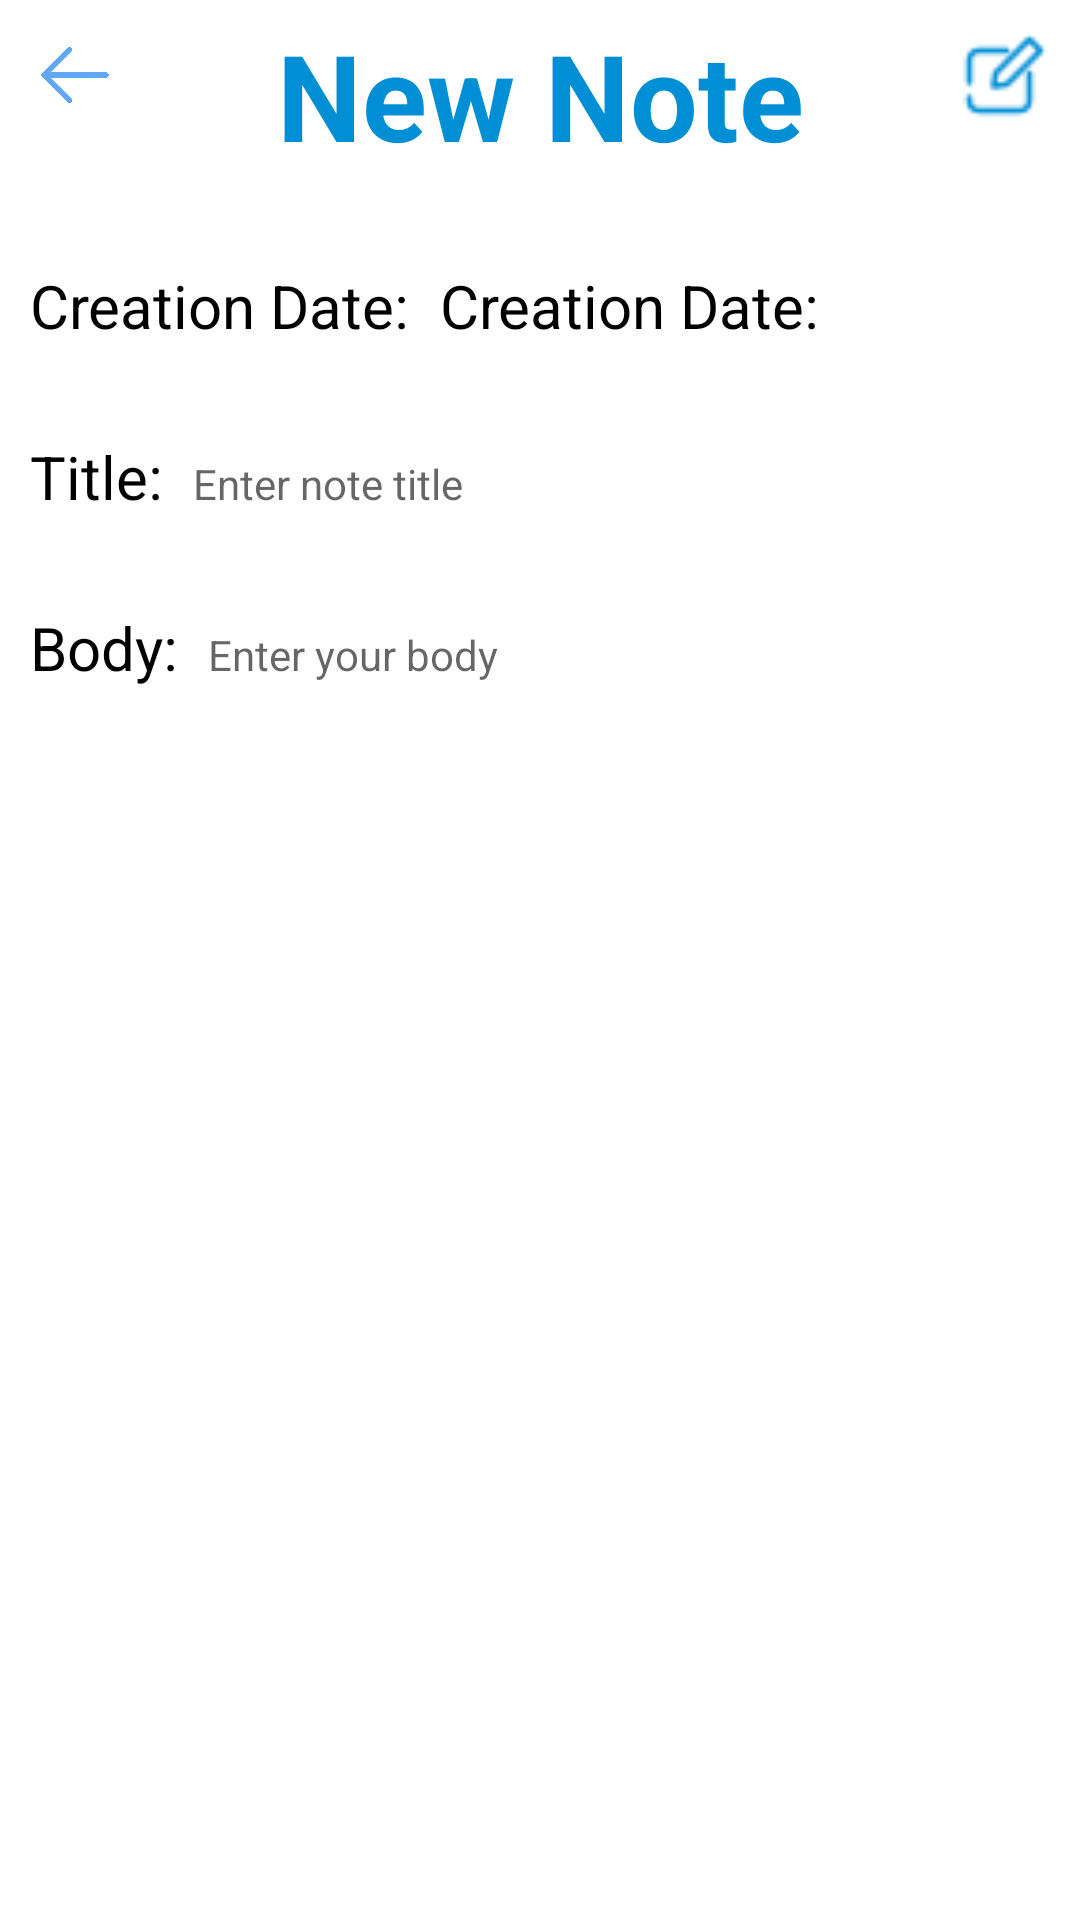

Locate icon controls on the screen. Image size 1080×1920, boxes as (x1, y1, x2, y2).
back: (41, 47, 109, 103)
edit: (963, 34, 1046, 117)
